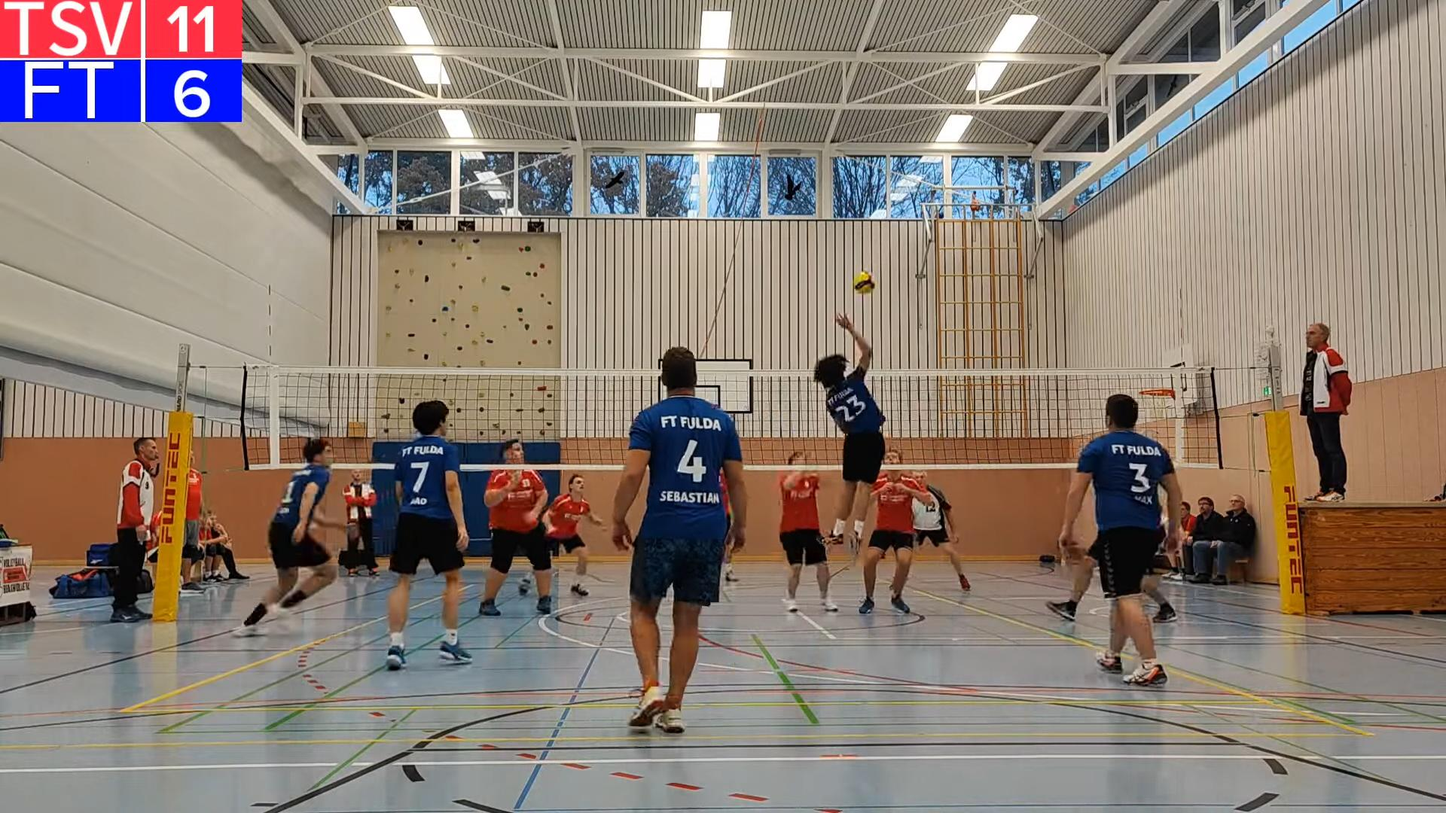Attack: (811, 313, 889, 558)
Player: (612, 349, 746, 732), (1060, 394, 1181, 685), (386, 400, 471, 670), (235, 438, 344, 635), (859, 469, 933, 614), (479, 469, 551, 615), (779, 452, 837, 611), (544, 473, 604, 596), (913, 471, 970, 592), (723, 536, 742, 583)
ball: (854, 268, 876, 291)
